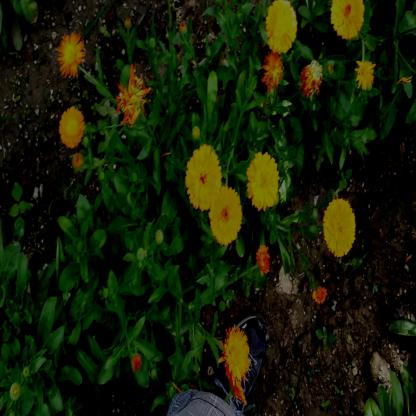marigold: (188, 146, 218, 206), (265, 0, 298, 54), (221, 328, 250, 388), (209, 186, 238, 244), (326, 201, 356, 257), (247, 154, 278, 208), (331, 0, 365, 39), (57, 33, 81, 71), (58, 105, 81, 143), (354, 60, 377, 89)
